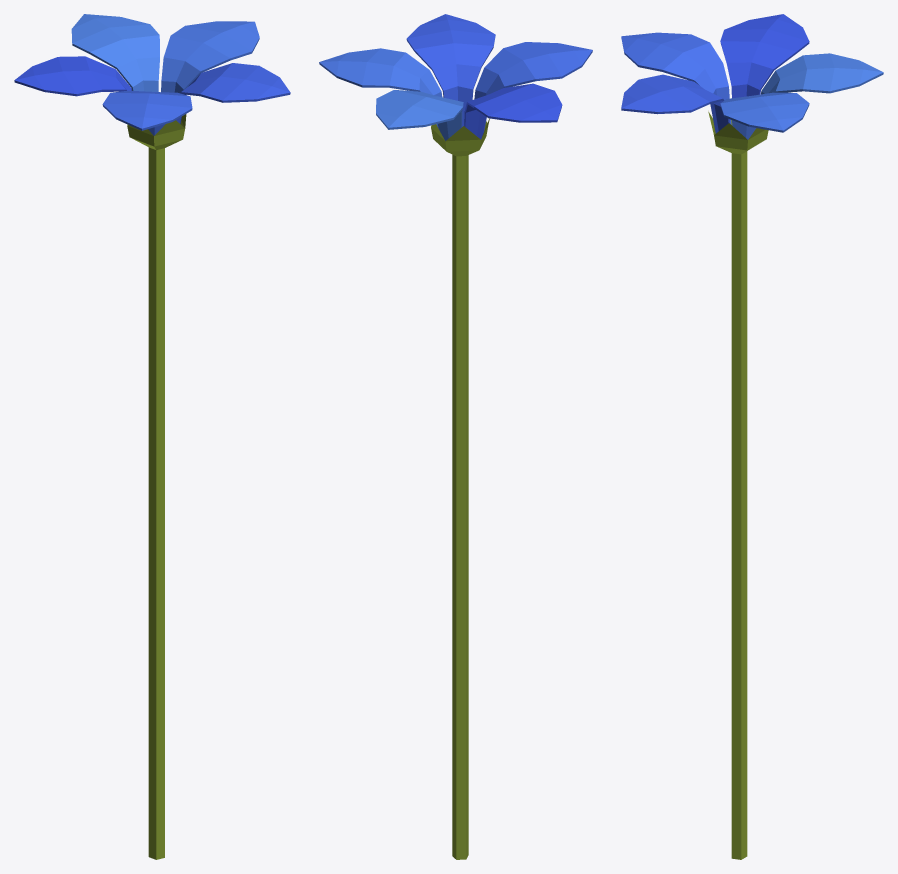
The model's file is NHP_Flower_LP_A1_H70cm_01.fbx.
The picture shows the model from 3 angles, left to right: view 1: azimuth 30°, elevation 25°; view 2: azimuth 150°, elevation 25°; view 3: azimuth 270°, elevation 25°; orthographic projection.
Visible parts, largest first — view 1: NHP_Flower_LP_A1_H70cm_01_LOD0; view 2: NHP_Flower_LP_A1_H70cm_01_LOD0; view 3: NHP_Flower_LP_A1_H70cm_01_LOD0.
Boxes of the visible parts, box(x1,y1,x2,y2) form: NHP_Flower_LP_A1_H70cm_01_LOD0: box(14, 14, 290, 859); NHP_Flower_LP_A1_H70cm_01_LOD0: box(319, 14, 592, 859); NHP_Flower_LP_A1_H70cm_01_LOD0: box(621, 14, 883, 859).
Size of what is drawn, in the model's own units: 0.2208 by 0.6957 by 0.21.
